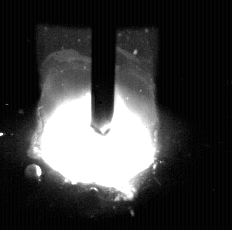arame: (92, 0, 116, 136)
poca: (34, 0, 158, 230)
